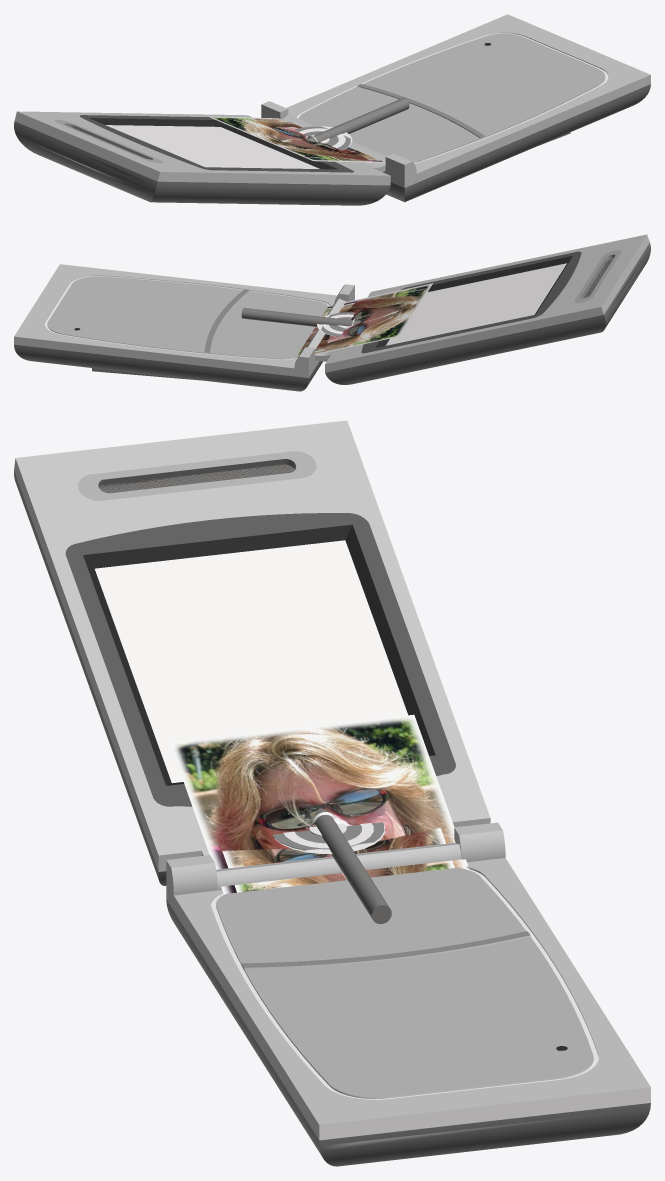
3 views of the same model, one above another, from view 1: azimuth 30°, elevation 25°; view 2: azimuth 150°, elevation 25°; view 3: azimuth 270°, elevation 25° (orthographic). The views are drawn at different scales.
Visible parts, largest first — view 1: Mesh1_Group2_Group1_Model; view 2: Mesh1_Group2_Group1_Model; view 3: Mesh1_Group2_Group1_Model.
Part boxes in pixels (left/top/right/bottom): Mesh1_Group2_Group1_Model: left=14, top=14, right=650, bottom=205; Mesh1_Group2_Group1_Model: left=14, top=234, right=650, bottom=391; Mesh1_Group2_Group1_Model: left=14, top=420, right=650, bottom=1166.
Size of the model in its own units: 1.04 by 0.241 by 0.539.
19 materials, 3 textured.
